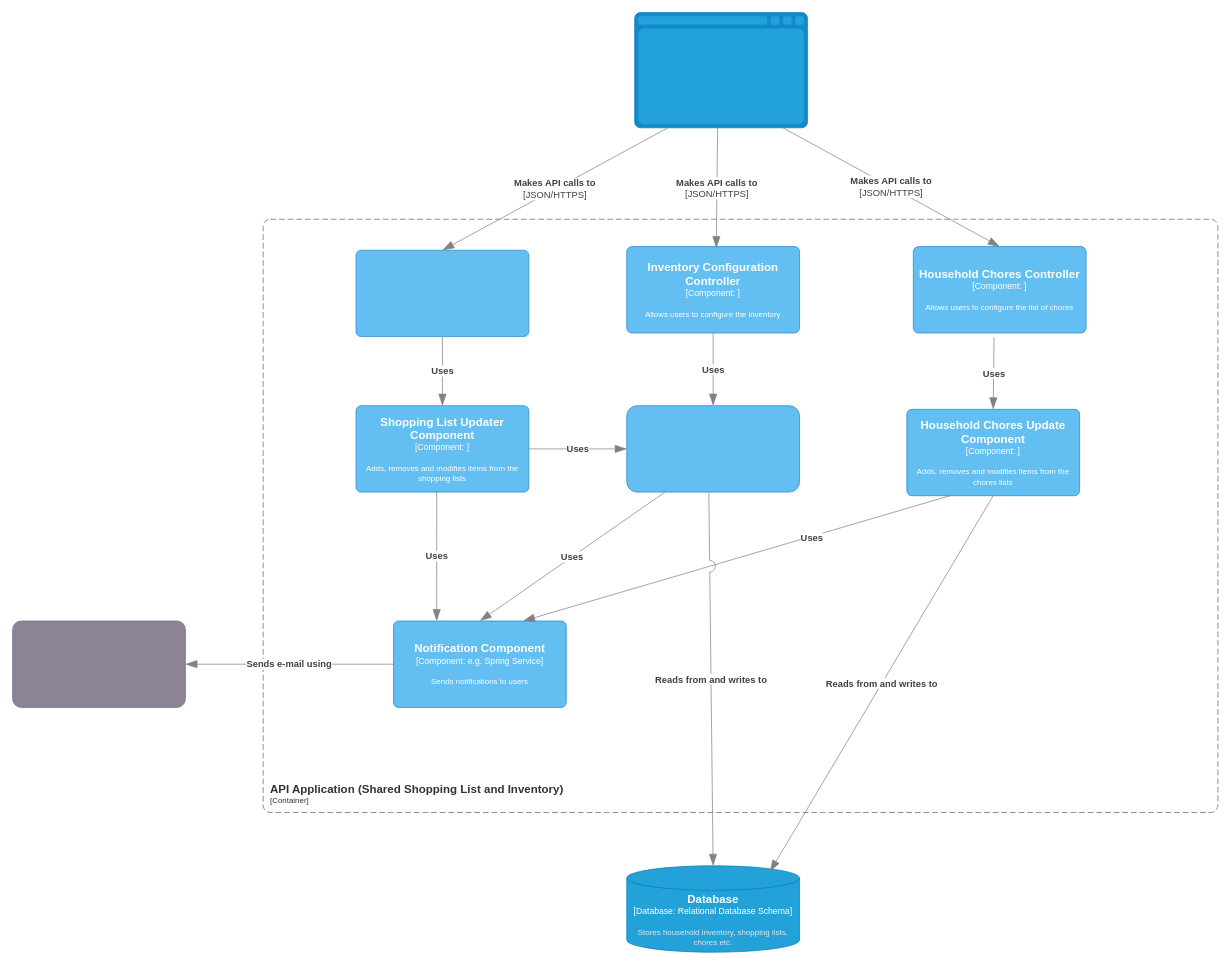
Some shapes in this 1230 by 965 pixel diagram are drawn without their labels. Each missing label, with the centre of its shape:
"E-mail System [Software System] The Google e-mail system" belongs at (98,663).
"Inventory Updater Component [Component: ] Updates the available inventory" belongs at (713,448).
"Shopping List Controller [Component: ] Allows users to configure shopping lists" belongs at (442,293).
"Web Application [Web Application: React]" belongs at (720,70).
